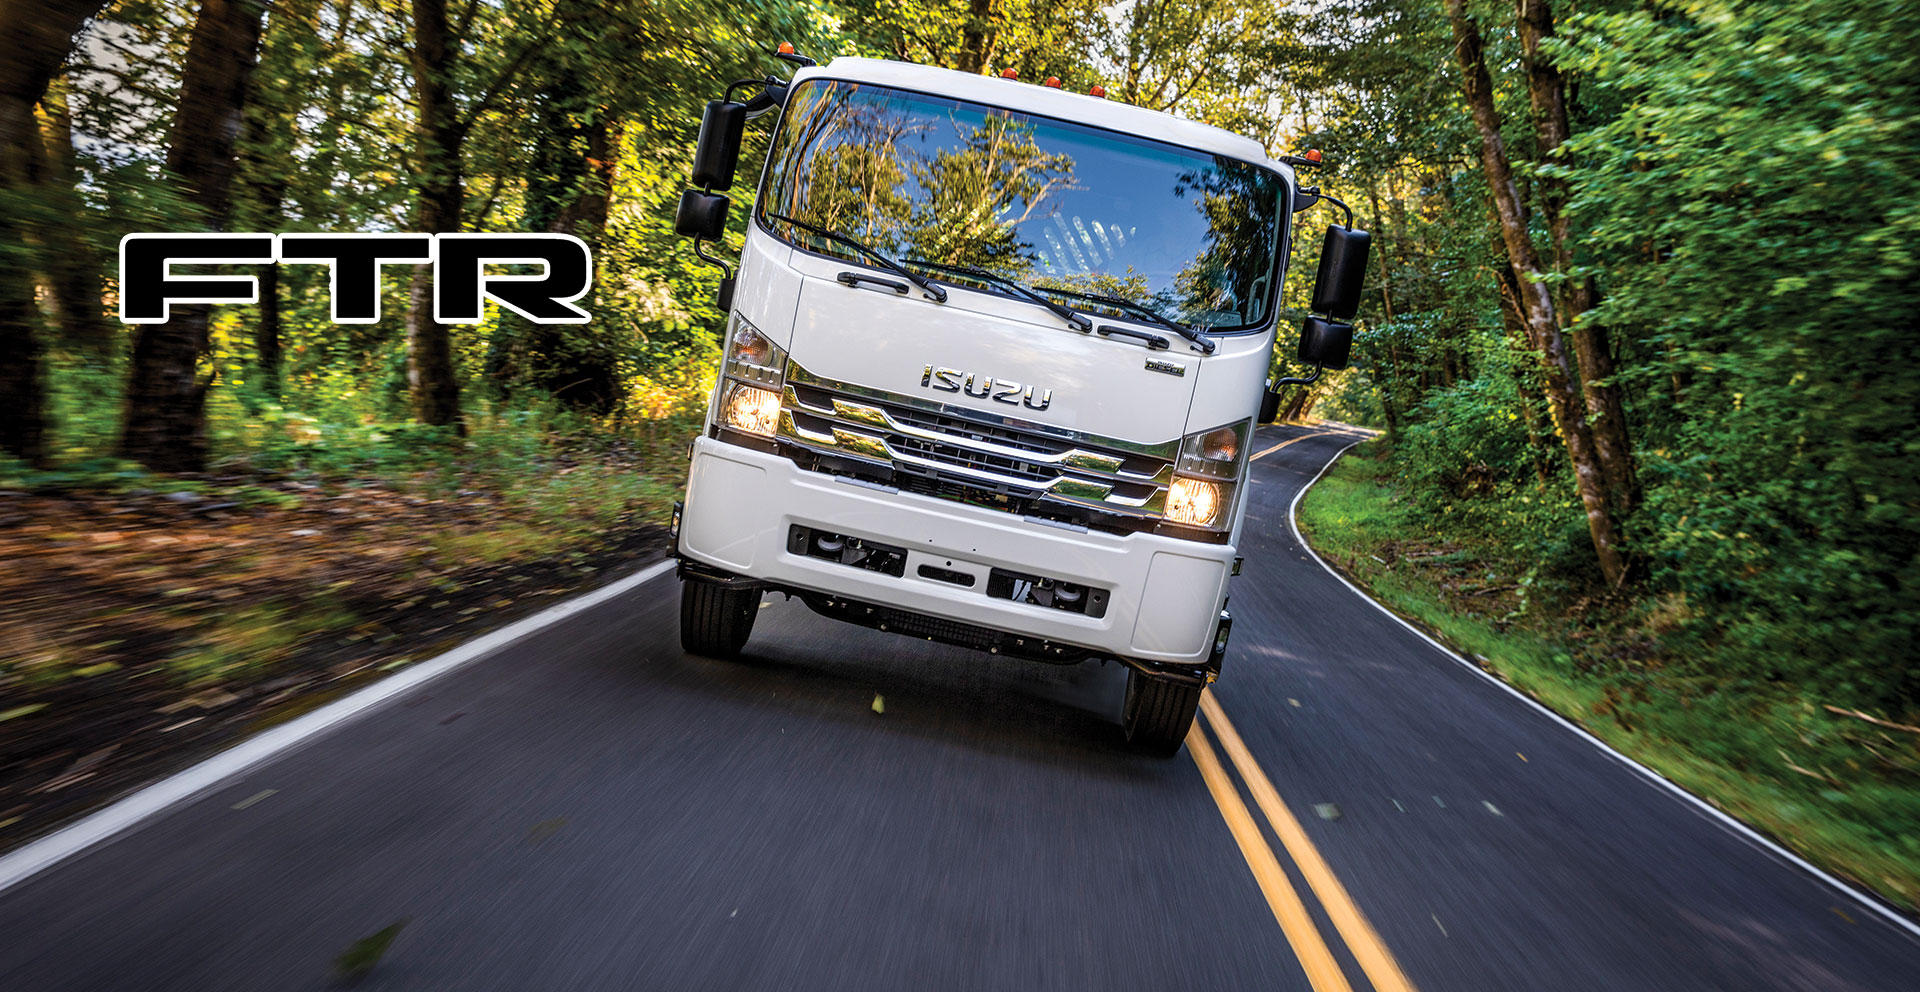truck: (656, 34, 1398, 760)
